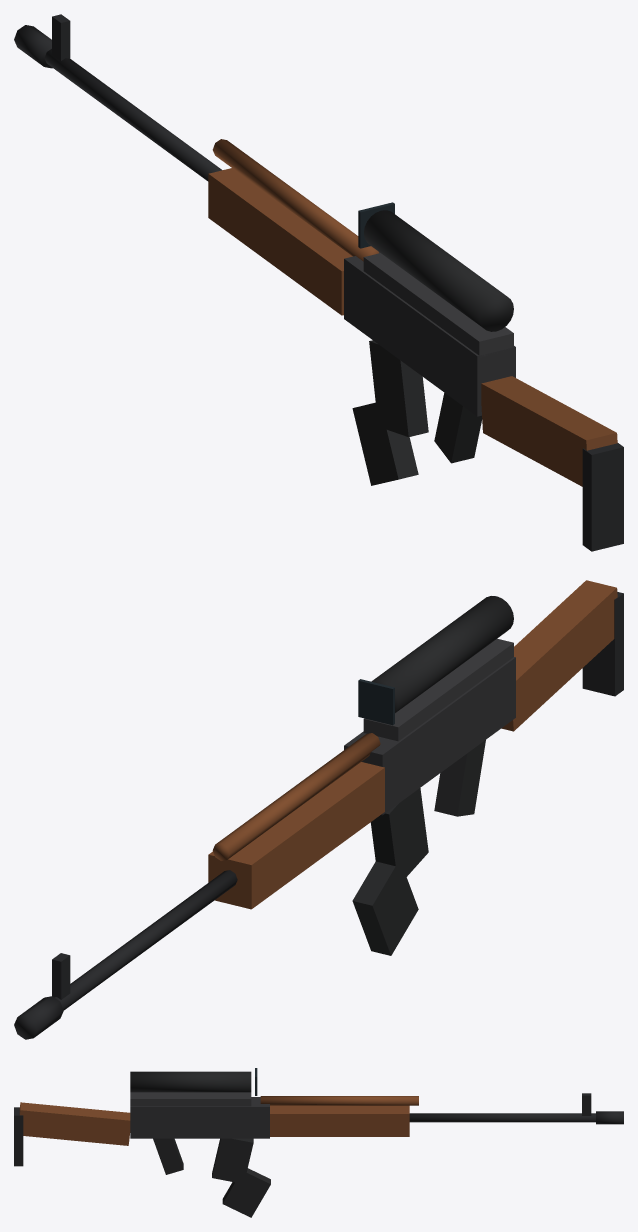
File: DMR_Red.fbx
3 renders of one model, top to bottom at view 1: azimuth 30°, elevation 25°; view 2: azimuth 150°, elevation 25°; view 3: azimuth 270°, elevation 25°, orthographic. The views are drawn at different scales.
Parts seen in each view (by area): view 1: Receiver, Handguard, Stock, Scope, DustCover, ButtPlate, MagUpper, GasTube, Barrel, MagLower, Grip, MuzzleBrake (+1 smaller); view 2: Handguard, Receiver, Stock, Scope, MagLower, DustCover, GasTube, Barrel, MagUpper, Grip, ButtPlate, ScopeLens (+2 smaller); view 3: Receiver, Handguard, Stock, Scope, Barrel, DustCover, GasTube, MagLower, MagUpper, Grip, ButtPlate, MuzzleBrake (+1 smaller).
Boxes of the visible parts, x1,y1,x2,y2 form: Receiver: (344, 252, 515, 416); Handguard: (208, 168, 352, 315); Stock: (481, 376, 617, 486); Scope: (364, 210, 513, 331); DustCover: (363, 253, 513, 357); ButtPlate: (582, 443, 623, 551); MagUpper: (369, 340, 428, 437); GasTube: (212, 139, 378, 261); Barrel: (44, 49, 222, 181); MagLower: (352, 402, 418, 485); Grip: (434, 393, 482, 463); MuzzleBrake: (14, 25, 52, 68); Handguard: (208, 762, 384, 909); Receiver: (344, 657, 515, 815); Stock: (501, 580, 617, 731); Scope: (371, 596, 513, 712); MagLower: (352, 859, 418, 955); DustCover: (363, 638, 513, 741); GasTube: (212, 733, 380, 860); Barrel: (54, 870, 237, 1010); MagUpper: (370, 788, 428, 885); Grip: (434, 740, 485, 816); ButtPlate: (582, 592, 623, 696); ScopeLens: (358, 679, 394, 725); Receiver: (130, 1097, 269, 1138); Handguard: (270, 1105, 409, 1136); Stock: (19, 1102, 130, 1145); Scope: (130, 1071, 251, 1092); Barrel: (409, 1113, 595, 1122); DustCover: (130, 1092, 251, 1106); GasTube: (260, 1096, 418, 1105); MagLower: (222, 1168, 270, 1217); MagUpper: (212, 1138, 253, 1183); Grip: (153, 1138, 183, 1174); ButtPlate: (14, 1107, 23, 1166); MuzzleBrake: (596, 1111, 623, 1124).
Size of the model in its own units: 5.6 by 131 by 33.87.
